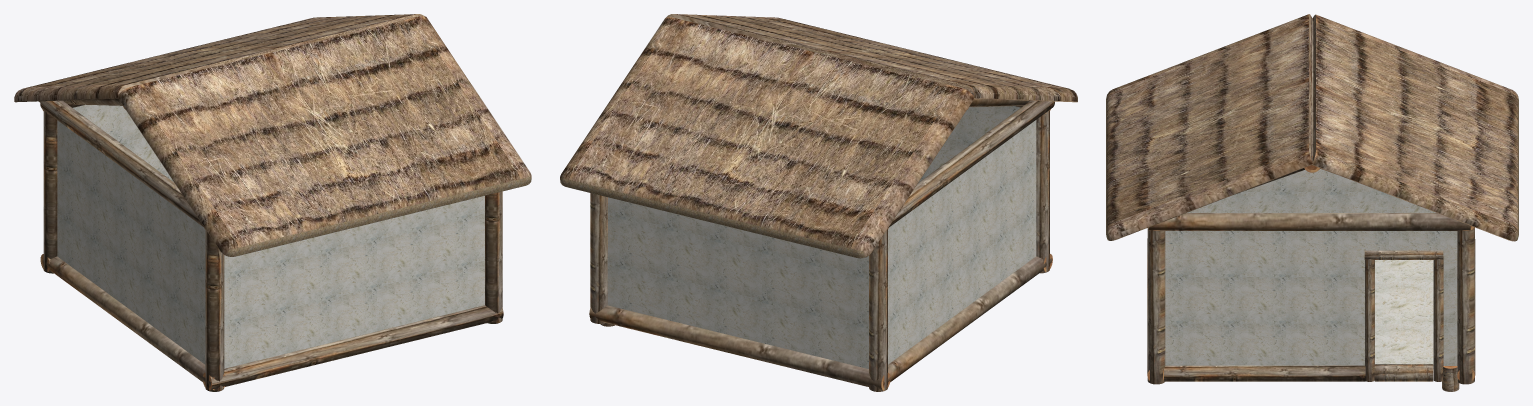
Rendered from Wattle cabin.fbx.
3 renders of one model, left to right at view 1: azimuth 30°, elevation 25°; view 2: azimuth 150°, elevation 25°; view 3: azimuth 270°, elevation 25°, orthographic. The views are drawn at different scales.
Parts seen in each view (by area): view 1: pCube6; view 2: pCube6; view 3: pCube6.
Part boxes in pixels (x1=…): pCube6: x1=14, y1=14, x2=531, y2=391; pCube6: x1=560, y1=14, x2=1077, y2=391; pCube6: x1=1106, y1=14, x2=1518, y2=391.
Bounding box in the file's own units: 4.44 × 3.45 × 5.36.
6 materials, 6 textured.
